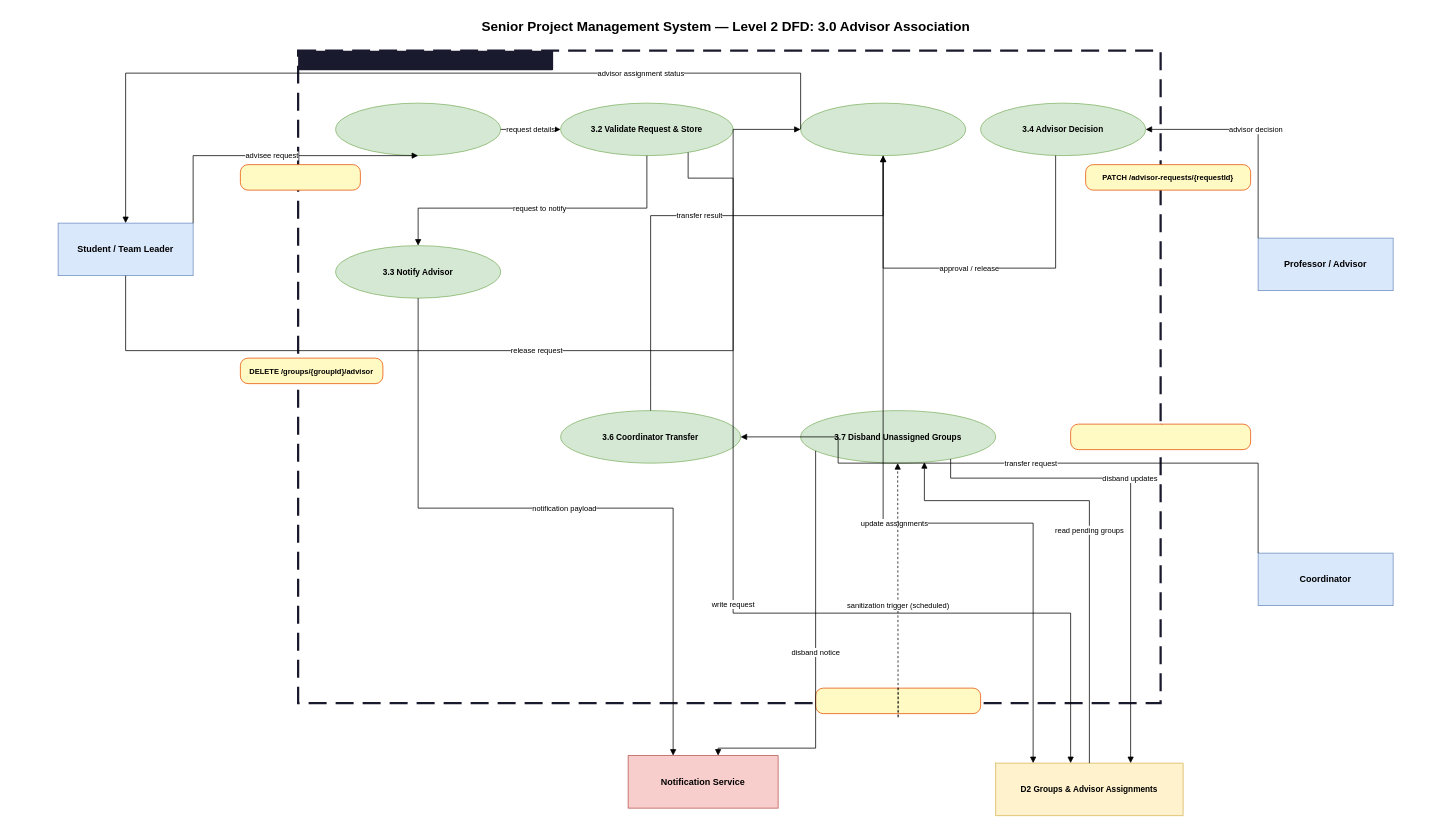
Some shapes in this 1451 by 829 pixel diagram are drawn without their labels. Each missing label, with the box of its shape:
3.1 Submit Advisee Request: (335, 102, 501, 156)
3.5 Assign / Release Advisor: (800, 102, 966, 156)
POST /advisor-requests: (240, 164, 360, 190)
POST /groups/advisor-sanitization: (815, 687, 981, 714)
POST /groups/{groupId}/advisor/transfer: (1070, 423, 1251, 450)
System Boundary — Process 3.0 Advisor Association: (298, 50, 553, 70)
